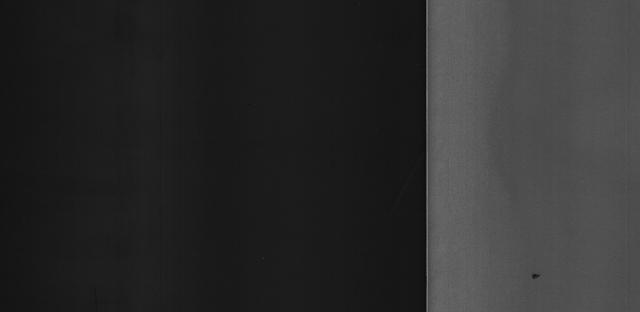inclusion: (519, 268, 548, 285)
